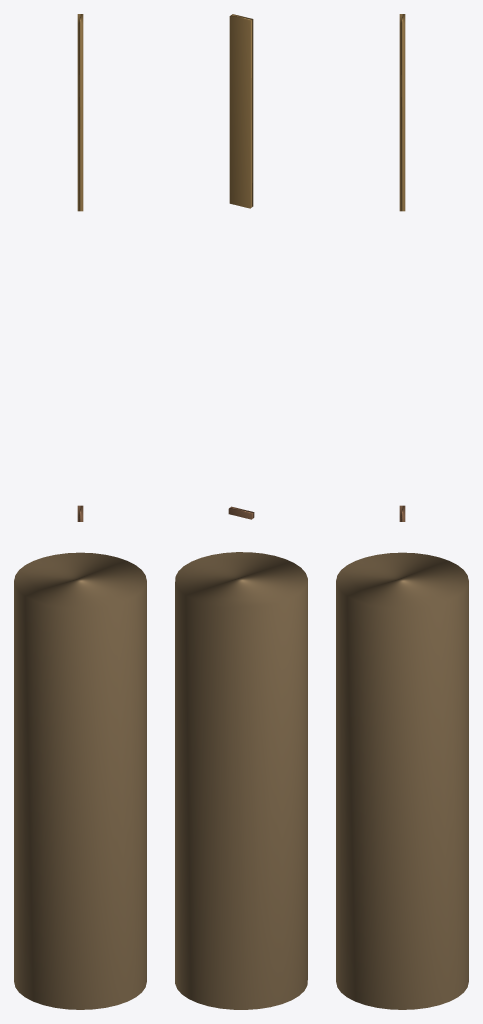
File: wooden_sword.glb
3 views of the same model, side by side, from view 1: azimuth 90°, elevation 25°; view 2: azimuth 150°, elevation 25°; view 3: azimuth 270°, elevation 25° (orthographic).
Parts seen in each view (by area): view 1: Cube; view 2: Cube; view 3: Cube.
Part boxes in pixels (x1,y1,x2,y2): Cube: (14,14,146,1009); Cube: (175,14,307,1009); Cube: (336,14,468,1009).
Size of the model in its own units: 0.036 by 0.288 by 0.036.
